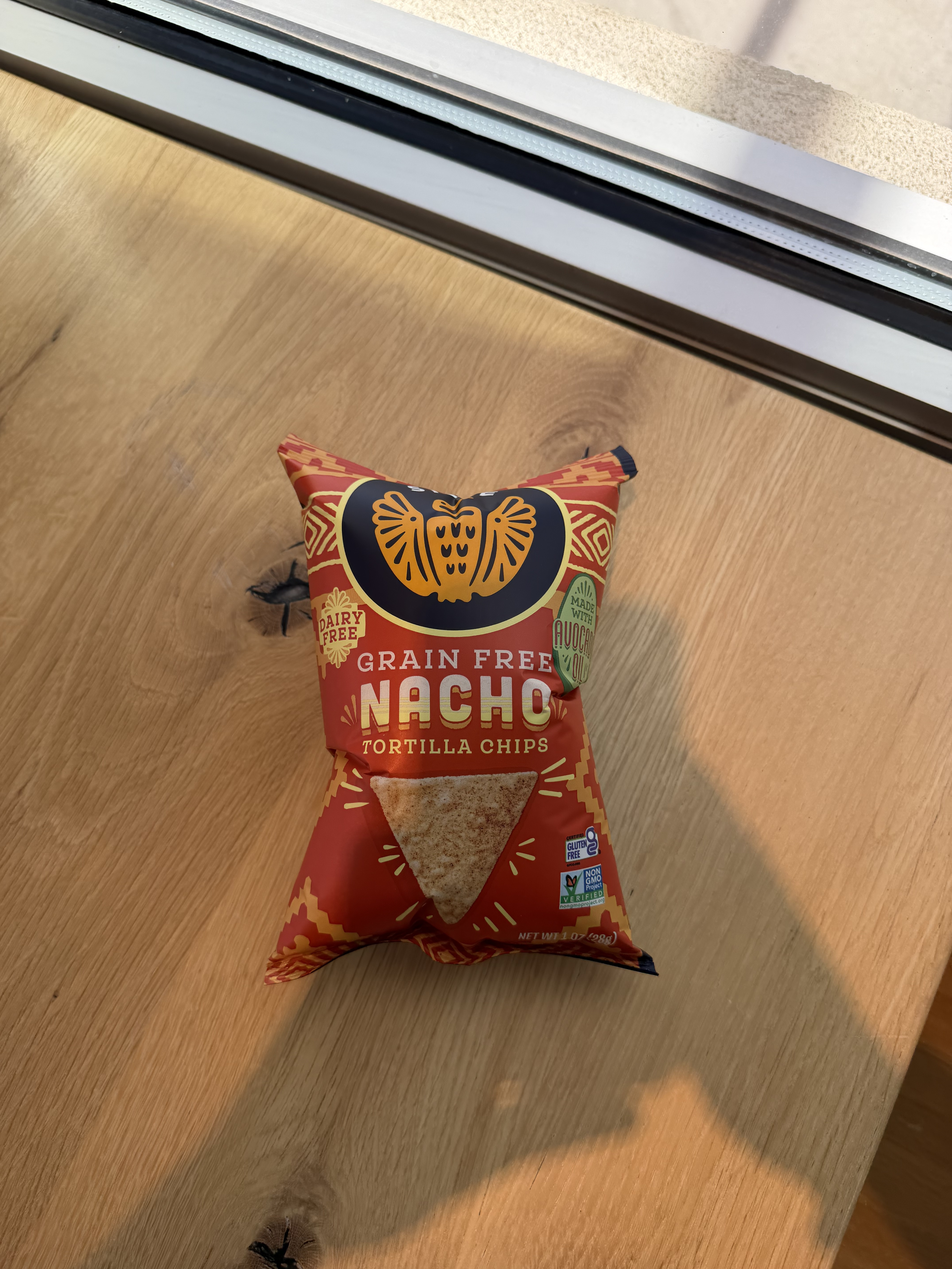nacho: (244, 422, 688, 989)
